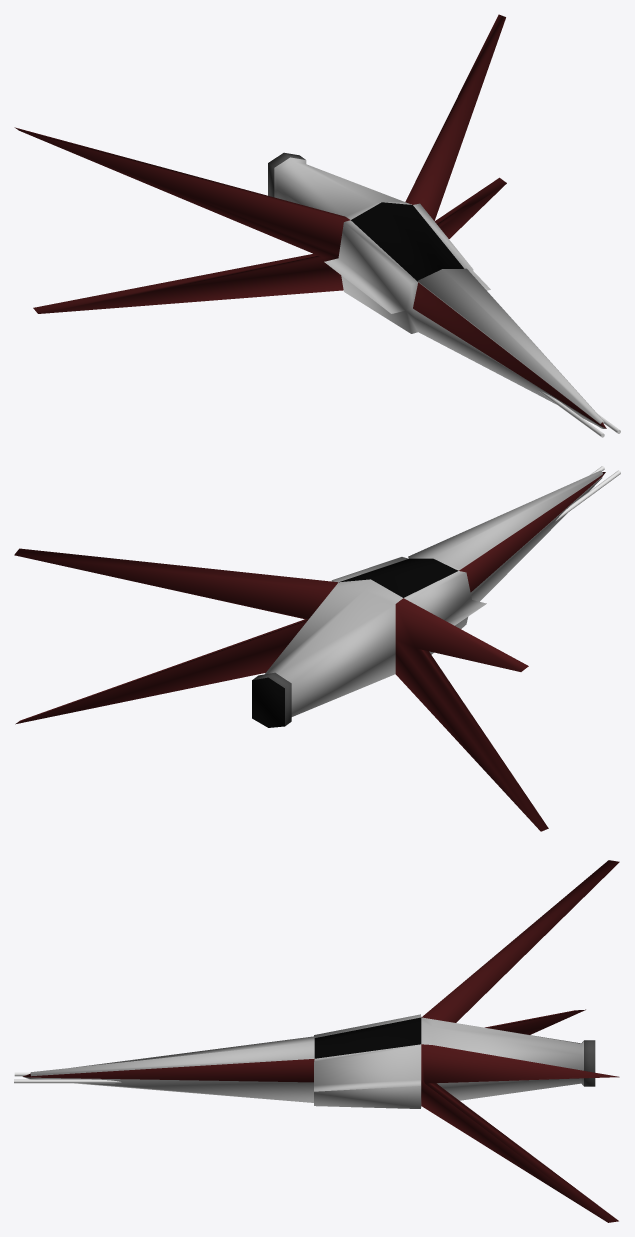
Rendered from drone.fbx.
The picture shows the model from 3 angles, top to bottom: view 1: azimuth 30°, elevation 25°; view 2: azimuth 150°, elevation 25°; view 3: azimuth 270°, elevation 25°; orthographic projection. The views are drawn at different scales.
Visible parts, largest first — view 1: Cube; view 2: Cube; view 3: Cube, Cylinder.
Boxes of the visible parts, bbox=[...] form: Cube: bbox=[14, 14, 606, 428]; Cube: bbox=[14, 470, 605, 831]; Cube: bbox=[22, 860, 619, 1222]; Cylinder: bbox=[14, 1079, 121, 1083].
Bounding box in the file's own units: 3353 × 1125 × 4076.
